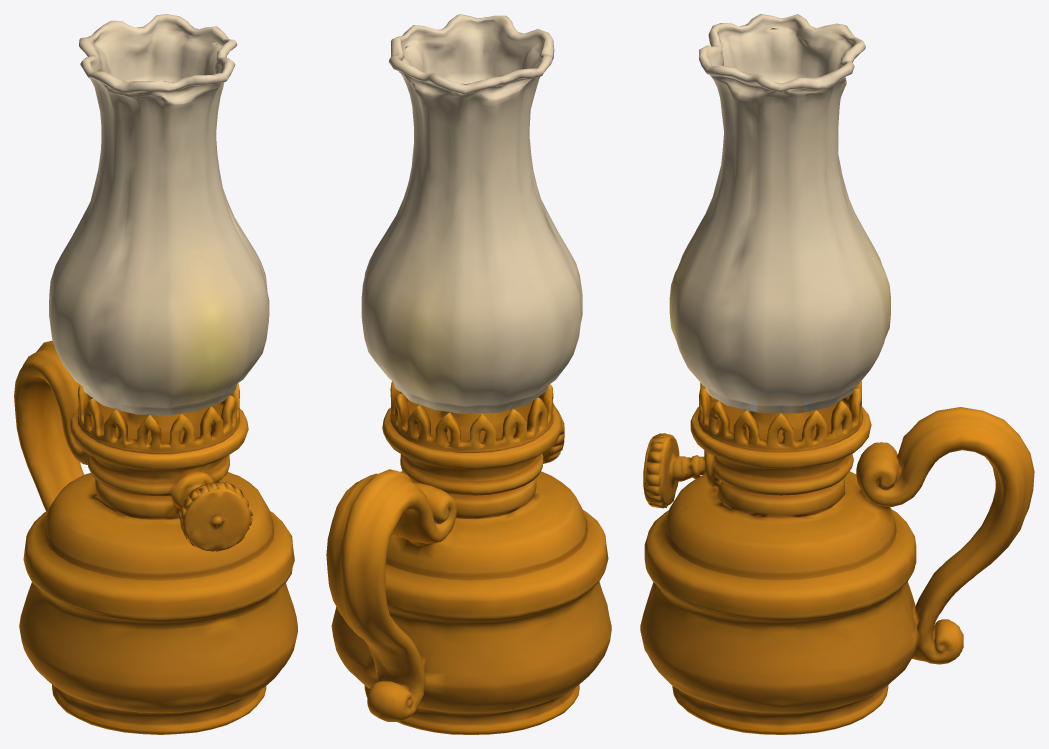
Rendered from oil-lamp.glb.
3 renders of one model, left to right at view 1: azimuth 30°, elevation 25°; view 2: azimuth 150°, elevation 25°; view 3: azimuth 270°, elevation 25°, orthographic.
Parts seen in each view (by area): view 1: tripo_node_80f0ba83-5e33-4455-91d4-9edcc431865b; view 2: tripo_node_80f0ba83-5e33-4455-91d4-9edcc431865b; view 3: tripo_node_80f0ba83-5e33-4455-91d4-9edcc431865b.
Boxes of the visible parts, left/top/right/bottom form: tripo_node_80f0ba83-5e33-4455-91d4-9edcc431865b: left=14, top=14, right=297, bottom=734; tripo_node_80f0ba83-5e33-4455-91d4-9edcc431865b: left=326, top=14, right=611, bottom=734; tripo_node_80f0ba83-5e33-4455-91d4-9edcc431865b: left=640, top=14, right=1034, bottom=734.
Bounding box in the file's own units: 0.3846 × 0.9778 × 0.5415.
1 material, 1 textured.
